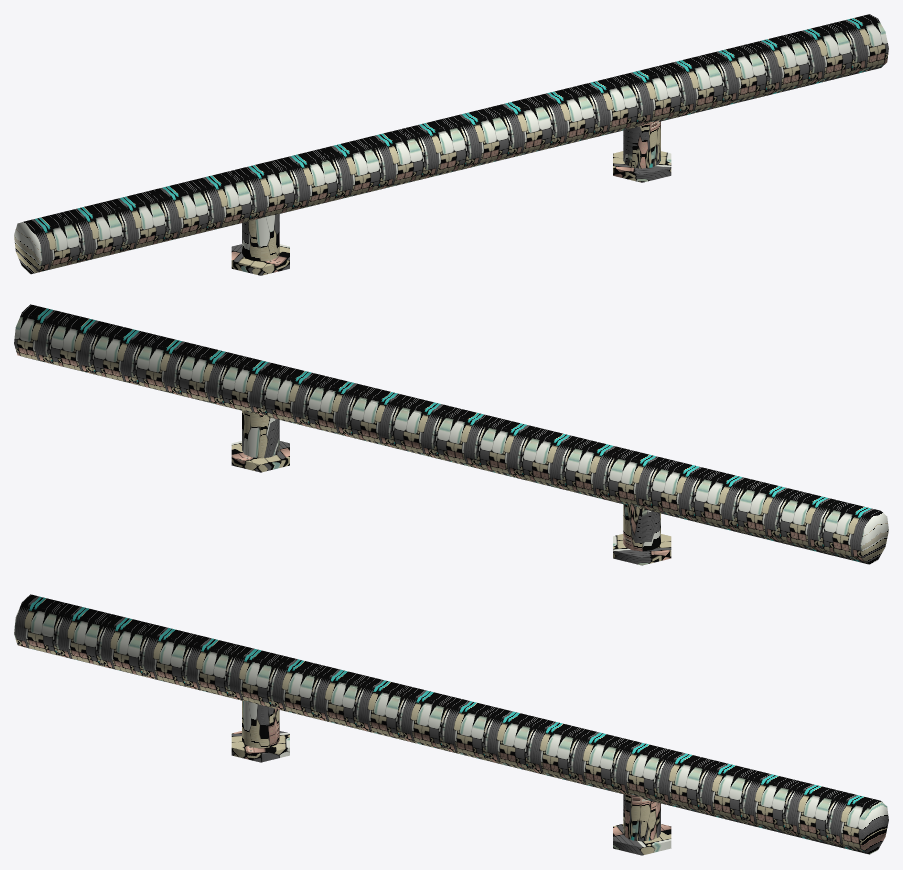
Rendered from Chair_01_Rail.fbx.
3 views of the same model, one above another, from view 1: azimuth 30°, elevation 25°; view 2: azimuth 150°, elevation 25°; view 3: azimuth 330°, elevation 25° (orthographic).
Parts seen in each view (by area): view 1: Chair_Rail_LOD0; view 2: Chair_Rail_LOD0; view 3: Chair_Rail_LOD0.
Boxes of the visible parts, x1,y1,x2,y2 form: Chair_Rail_LOD0: [14, 14, 888, 275]; Chair_Rail_LOD0: [14, 304, 888, 565]; Chair_Rail_LOD0: [14, 594, 888, 855].
Size of what is drawn, in the model's own units: 394 by 42.3 by 23.54.
